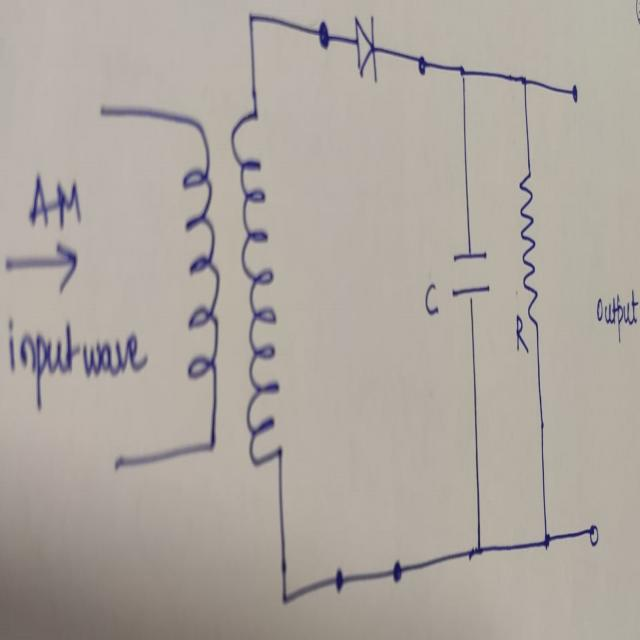capacitor: (448, 244, 491, 305)
diode: (352, 14, 378, 81)
junction: (316, 20, 331, 53), (333, 564, 345, 598), (245, 3, 258, 34), (415, 51, 427, 81), (391, 557, 403, 586), (540, 527, 553, 550), (280, 586, 290, 613), (474, 538, 486, 560), (518, 71, 530, 92), (458, 59, 467, 84)
resistor: (518, 170, 538, 326)
terminal: (96, 93, 110, 129), (111, 450, 124, 480), (586, 518, 598, 547), (569, 79, 580, 108)
text: (3, 162, 149, 418), (594, 288, 640, 344), (514, 311, 530, 356), (424, 281, 441, 318)
transformer: (180, 105, 288, 480)
